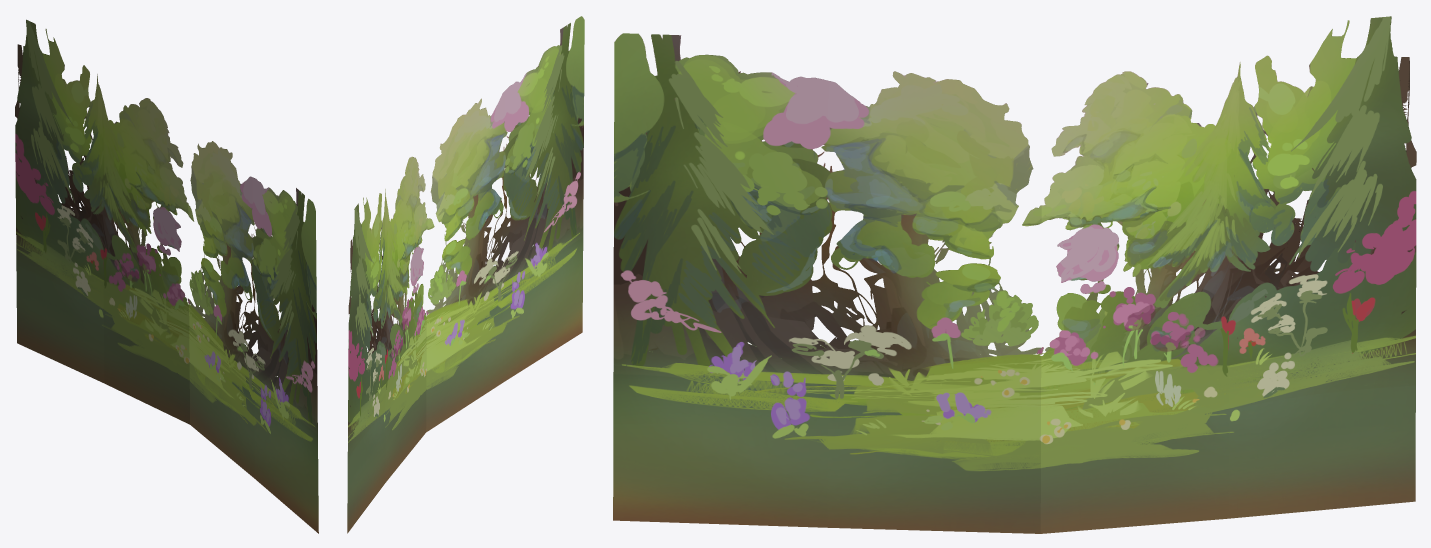
File: SpringFront2.fbx
3 views of the same model, side by side, from view 1: azimuth 30°, elevation 25°; view 2: azimuth 150°, elevation 25°; view 3: azimuth 270°, elevation 25° (orthographic). The views are drawn at different scales.
Visible parts, largest first — view 1: SpringFront2; view 2: SpringFront2; view 3: SpringFront2.
Part boxes in pixels (x1,y1,x2,y2): SpringFront2: (15, 19, 318, 533); SpringFront2: (347, 16, 584, 533); SpringFront2: (613, 16, 1416, 533).
Bounding box in the file's own units: 374 × 2449 × 3656.
1 material, 1 textured.
